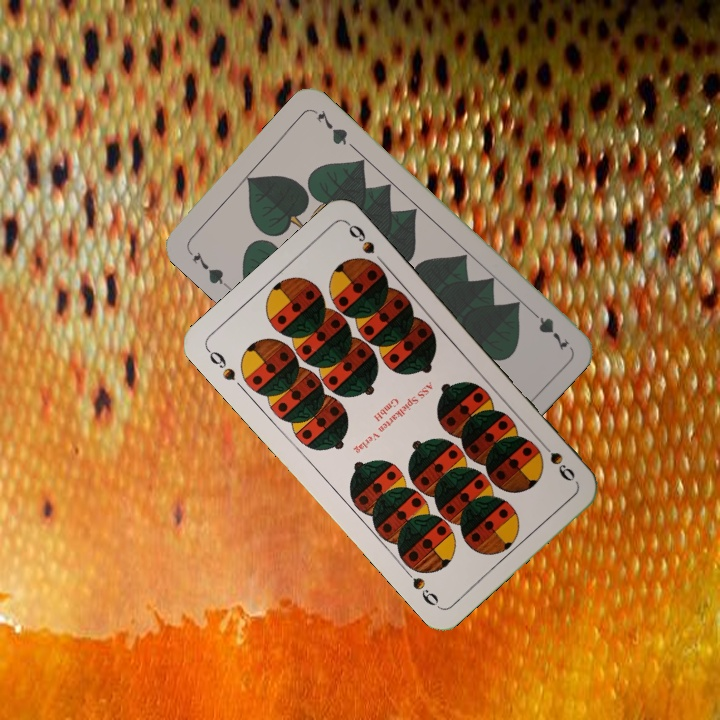G7: (524, 304, 573, 354), (183, 245, 231, 291)
S9: (535, 436, 578, 484), (202, 344, 238, 383)
